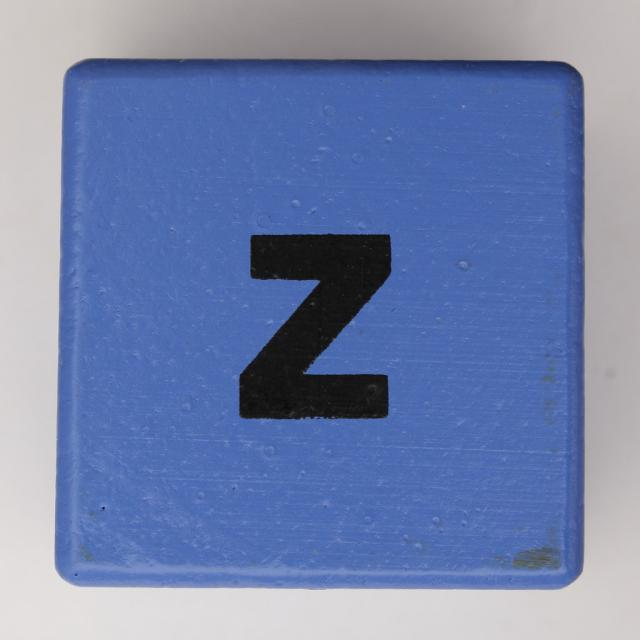Z: (220, 196, 452, 466)
